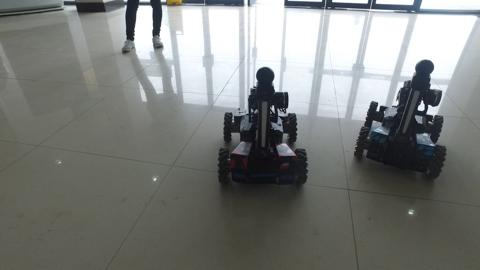chariot: (211, 64, 323, 190), (348, 56, 456, 185)
